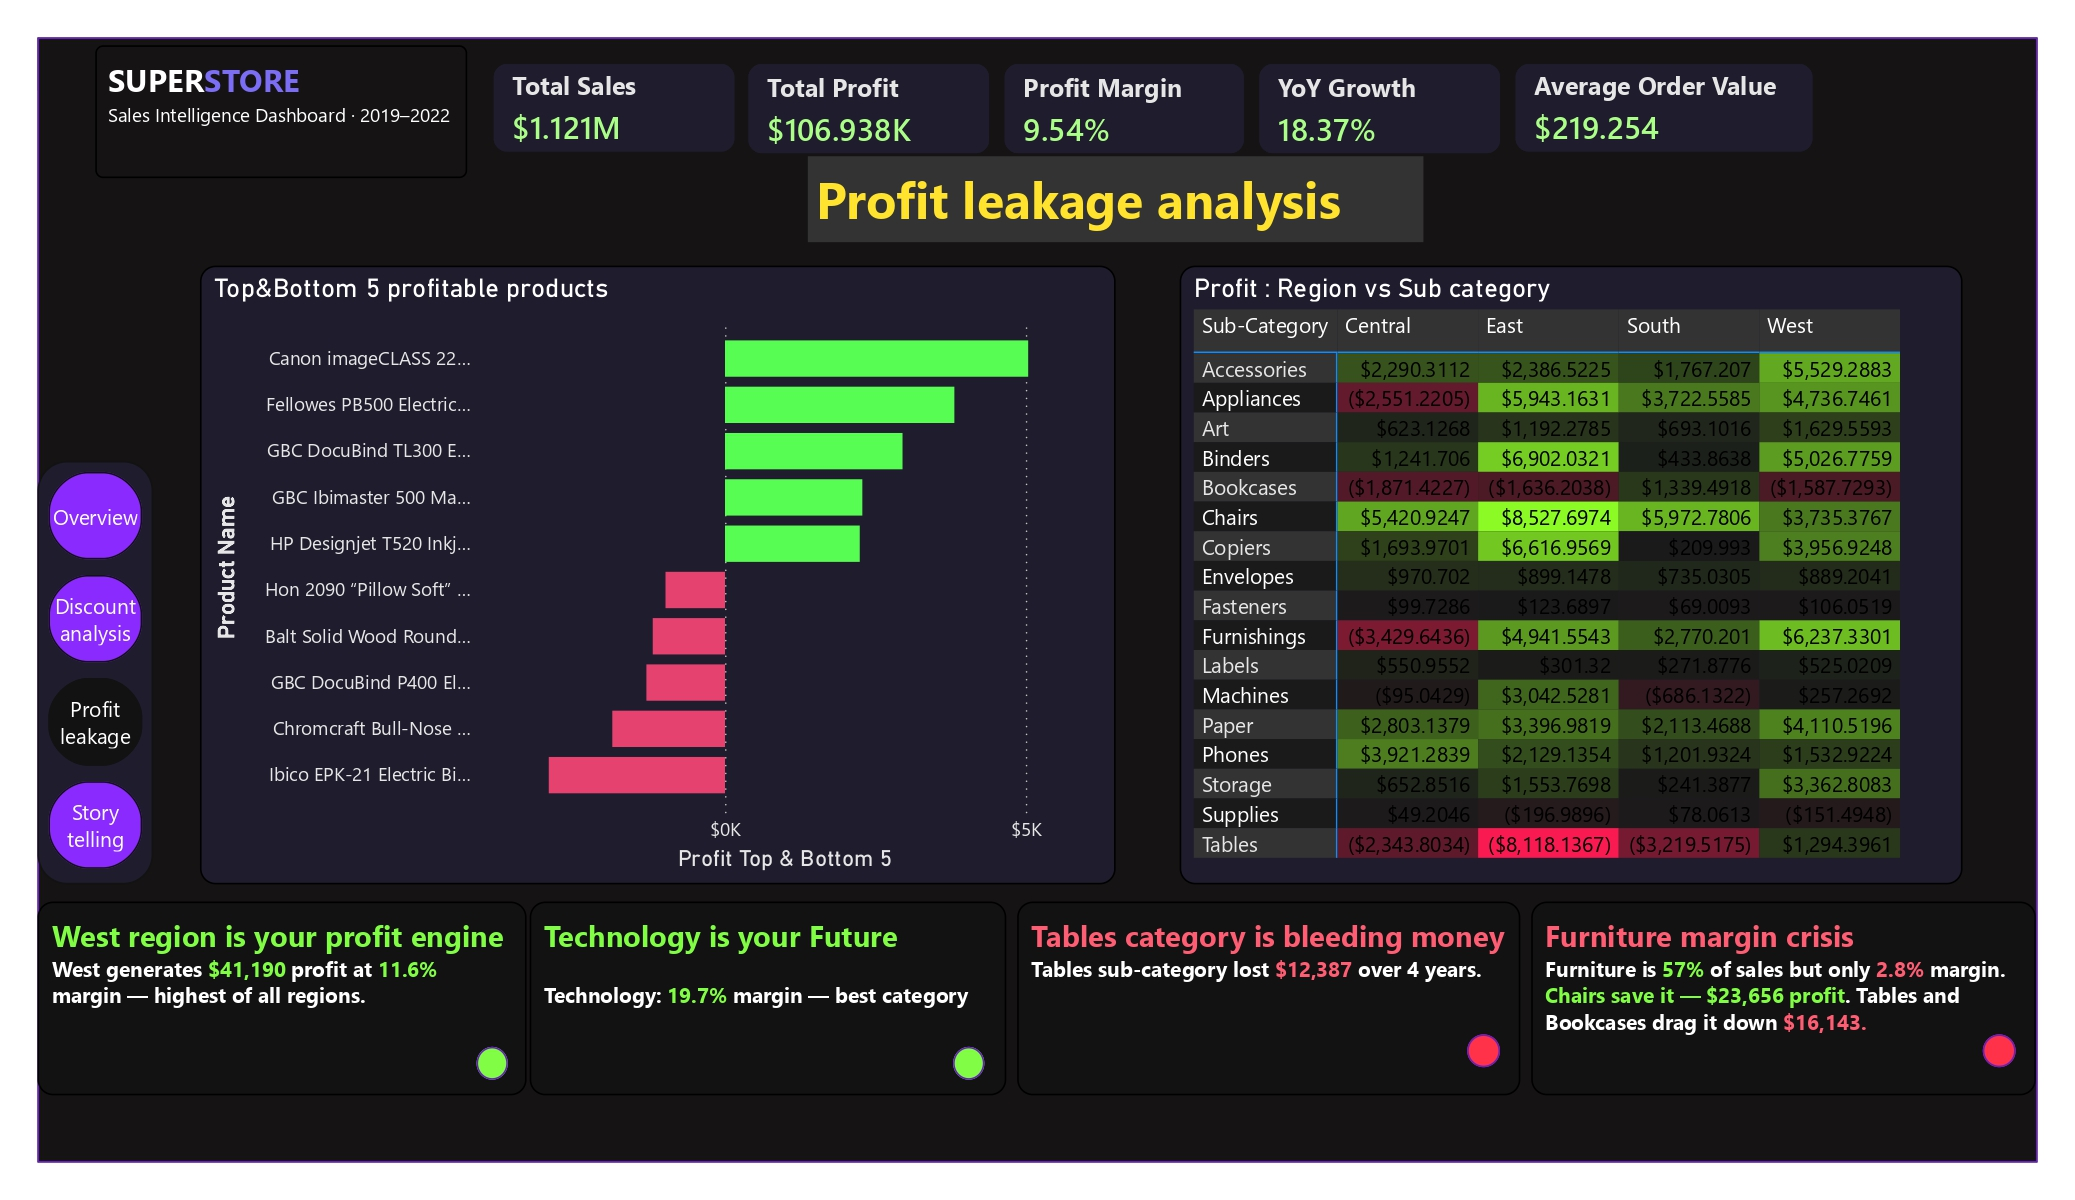

The dashboard page shown, as its layout file describes it:
{"tool":"powerbi","page":{"name":"Profit leakage","canvas":[1280,720],"ordinal":2},"visuals":[{"type":"cardVisual","fields":{"Data":["Orders.Total Sales"]},"box":[275,0.1,187.7,90.4],"z":1000},{"type":"cardVisual","fields":{"Data":["Orders.Total Profit"]},"box":[438.4,0.1,187.7,90.4],"z":2000},{"type":"cardVisual","fields":{"Data":["Orders.Profit Margin"]},"box":[601.8,0.1,187.7,90.4],"z":3000},{"type":"cardVisual","fields":{"Data":["Orders.YoY Growth"]},"box":[765.2,0.1,187.7,90.4],"z":4000},{"type":"cardVisual","fields":{"Data":["Orders.Average Order Value"]},"box":[928.7,0,223.9,90.4],"z":5000},{"type":"pivotTable","title":"Profit : Region vs Sub category","fields":{"Rows":["Orders.Sub-Category"],"Values":["Sum(Orders.Profit)"],"Columns":["Orders.Region"]},"box":[730.6,146,501.5,395.8],"z":6000},{"type":"textbox","box":[37.3,5.5,238.2,84.5],"z":7000},{"type":"barChart","title":"Top&Bottom 5 profitable products","fields":{"Y":["Orders.Profit Top & Bottom 5"],"Category":["Orders.Product Name"]},"box":[103.9,146,586.6,395.8],"z":8000},{"type":"textbox","box":[493.4,76.1,394,54.6],"z":9000},{"type":"group","id":"g1","title":"Group 1","box":[0,553.4,312.5,124.5],"z":10000},{"type":"textbox","box":[626.9,553.4,322.4,124.5],"z":10000,"group":"g2"},{"type":"textbox","box":[956.4,553.4,323.3,124.5],"z":10000,"group":"g4"},{"type":"group","id":"g2","title":"Group 2","box":[626.9,553.4,322.4,124.5],"z":11000},{"type":"group","id":"g3","title":"Group 1","box":[315.2,553.4,305.4,124.5],"z":12000},{"type":"textbox","box":[0,553.4,312.5,124.5],"z":13000,"group":"g1"},{"type":"textbox","box":[315.2,553.4,305.4,124.5],"z":13000,"group":"g3"},{"type":"group","id":"g4","title":"Group 2","box":[956.4,553.4,323.3,124.5],"z":13000},{"type":"pageNavigator","box":[0,271.3,74.3,270.4],"z":14000},{"type":"shape","box":[915.4,638.5,20.5,20.6],"z":14000,"group":"g2"},{"type":"shape","box":[1245.7,638.5,20.6,20.6],"z":14000,"group":"g4"},{"type":"shape","box":[586,646.5,19.9,20.6],"z":18000,"group":"g3"},{"type":"shape","box":[280.7,646.6,20.6,20.6],"z":18000,"group":"g1"}]}

Visuals, with their boxes on the page's 1280x720 design canvas (x1, y1, x2, y2). These are canvas units, not pixel positions in the 2075x1200 screenshot, which may show the page scaled, cropped or inside an application window:
cardVisual - Orders.Total Sales: detection(275, 0, 463, 90)
cardVisual - Orders.Total Profit: detection(438, 0, 626, 90)
cardVisual - Orders.Profit Margin: detection(602, 0, 790, 90)
cardVisual - Orders.YoY Growth: detection(765, 0, 953, 90)
cardVisual - Orders.Average Order Value: detection(929, 0, 1153, 90)
"Profit : Region vs Sub category" pivotTable: detection(731, 146, 1232, 542)
textbox: detection(37, 6, 276, 90)
"Top&Bottom 5 profitable products" barChart: detection(104, 146, 690, 542)
textbox: detection(493, 76, 887, 131)
"Group 1" group: detection(0, 553, 312, 678)
textbox: detection(627, 553, 949, 678)
textbox: detection(956, 553, 1280, 678)
"Group 2" group: detection(627, 553, 949, 678)
"Group 1" group: detection(315, 553, 621, 678)
textbox: detection(0, 553, 312, 678)
textbox: detection(315, 553, 621, 678)
"Group 2" group: detection(956, 553, 1280, 678)
pageNavigator: detection(0, 271, 74, 542)
shape: detection(915, 638, 936, 659)
shape: detection(1246, 638, 1266, 659)
shape: detection(586, 646, 606, 667)
shape: detection(281, 647, 301, 667)
